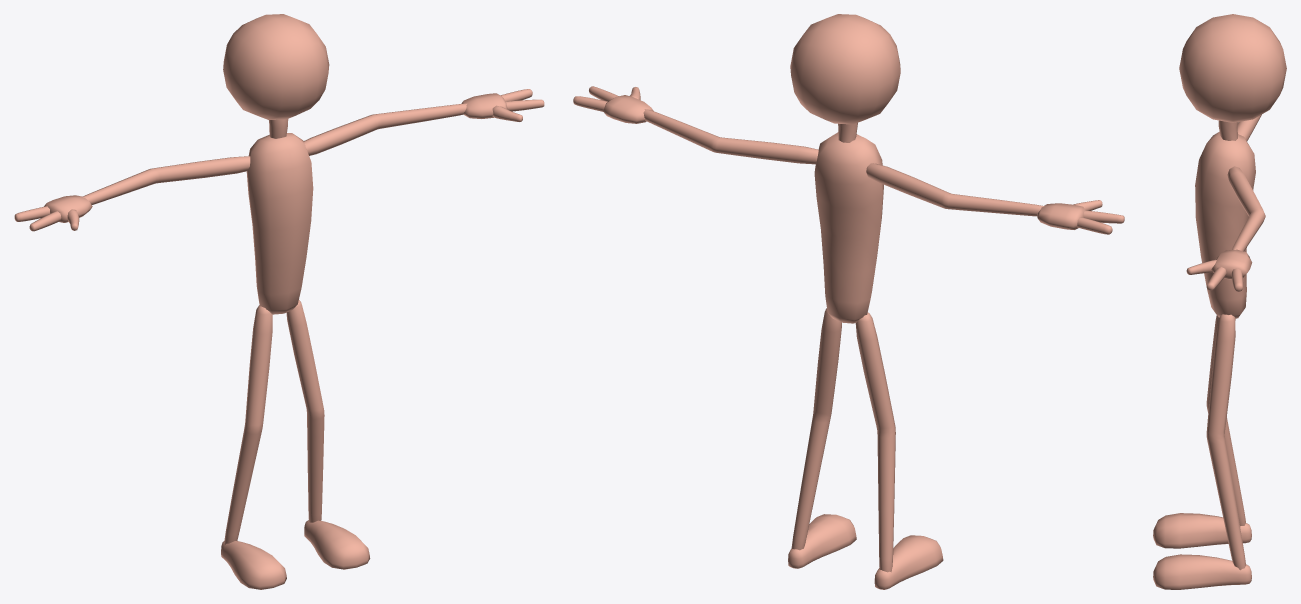
The picture shows the model from 3 angles, left to right: view 1: azimuth 30°, elevation 25°; view 2: azimuth 150°, elevation 25°; view 3: azimuth 270°, elevation 25°; orthographic projection. The views are drawn at different scales.
Parts seen in each view (by area): view 1: PJ1; view 2: PJ1; view 3: PJ1.
Part boxes in pixels (bbox=[...]): PJ1: bbox=[14, 14, 544, 589]; PJ1: bbox=[573, 14, 1124, 589]; PJ1: bbox=[1153, 14, 1286, 589].
Size of the model in its own units: 763 by 752 by 168.
